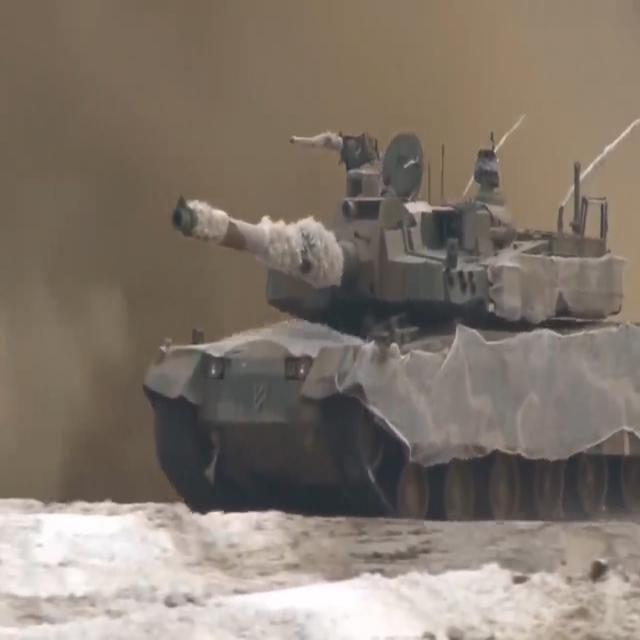korea tank: (139, 126, 640, 522)
